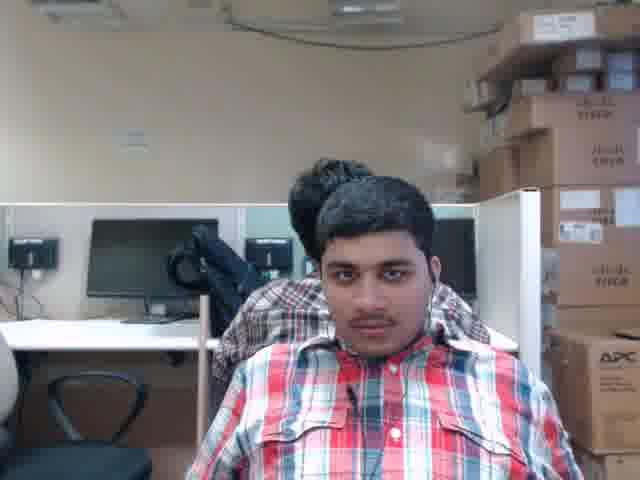bosan: (321, 228, 423, 353)
